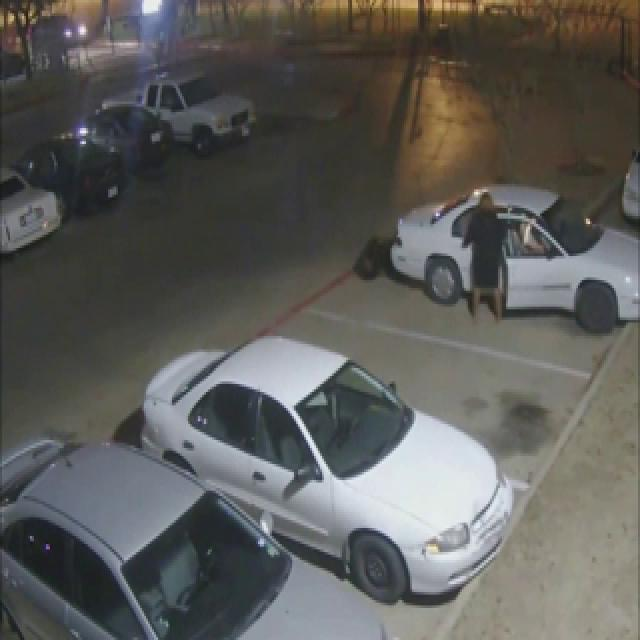arrest: (264, 0, 632, 452)
